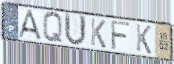A: (17, 9, 44, 42)
F: (110, 20, 132, 53)
K: (89, 17, 107, 50), (135, 23, 152, 56)
Q: (42, 11, 64, 45)
U: (63, 12, 88, 48)
